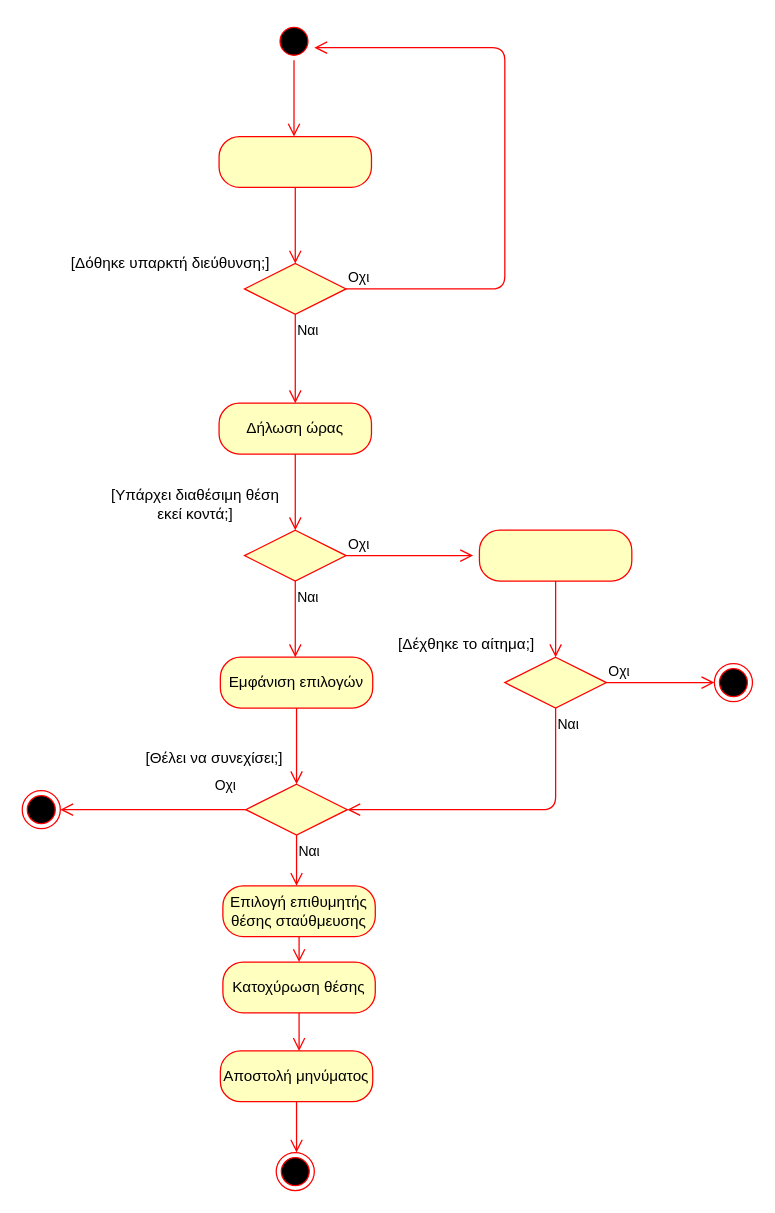
This 775x1213 diagram has some shape labels left out. The shapes that lost their labels are listed below. From the top down, each one's centre as x and y in pixels, then its label:
At pixel 294 161: "Δήλωση διεύθυνσης".
At pixel 555 555: "Αίτημα για Επέκταση πεδίου αναζήτησης".
